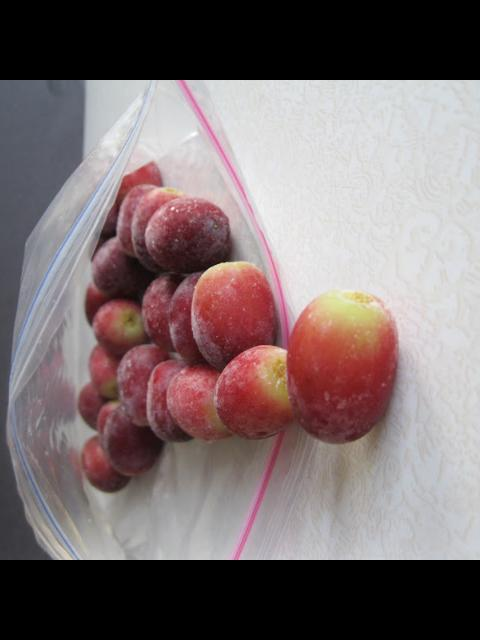Grapes: (286, 290, 396, 444), (190, 261, 274, 361), (208, 346, 294, 440), (142, 197, 230, 266), (154, 367, 226, 448), (114, 344, 164, 420), (99, 409, 153, 475), (86, 236, 140, 298), (87, 296, 144, 352), (139, 268, 175, 344), (78, 436, 123, 490)
